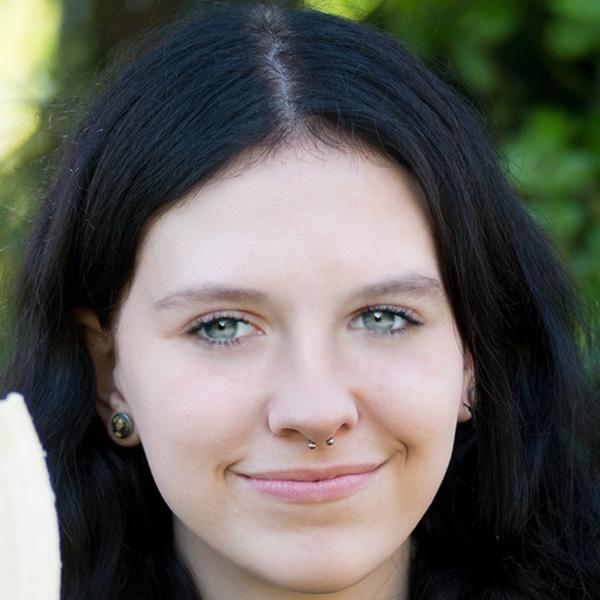Eyes: (178, 307, 276, 354), (334, 298, 427, 344)
